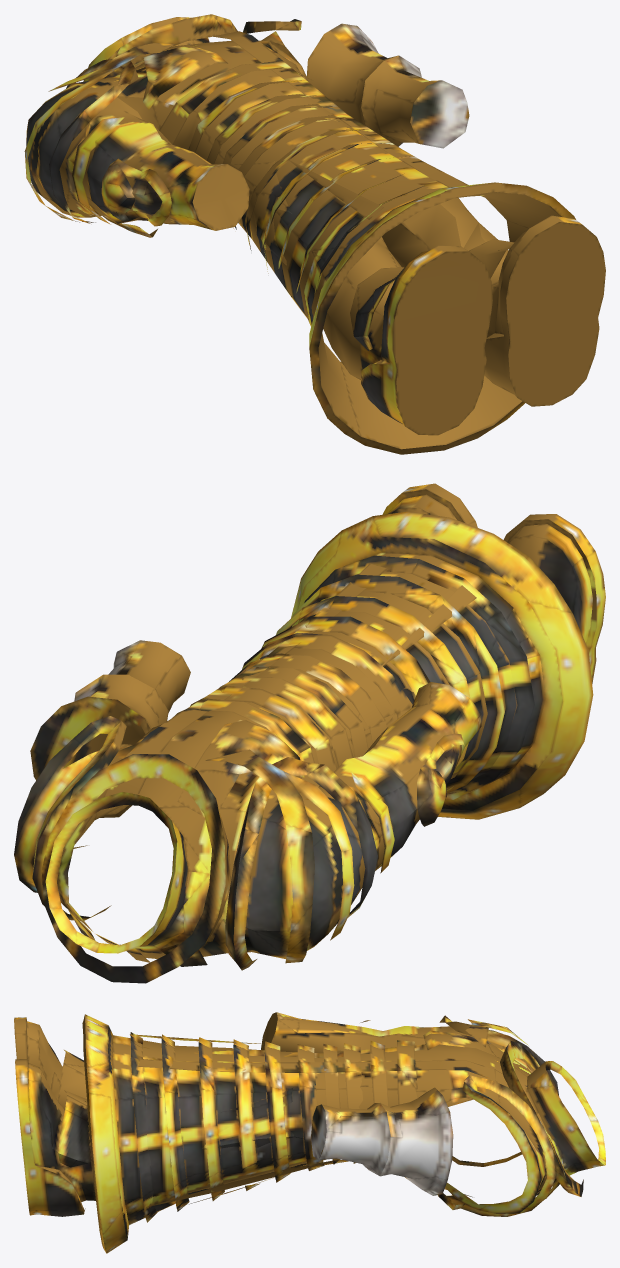
File: item_mm9_10114.glb
The picture shows the model from 3 angles, top to bottom: view 1: azimuth 30°, elevation 25°; view 2: azimuth 150°, elevation 25°; view 3: azimuth 270°, elevation 25°; orthographic projection. The views are drawn at different scales.
Parts seen in each view (by area): view 1: d10114; view 2: d10114; view 3: d10114.
Boxes of the visible parts, x1=… form: d10114: x1=24, y1=14, x2=605, y2=454; d10114: x1=14, y1=483, x2=605, y2=983; d10114: x1=14, y1=1012, x2=605, y2=1253.
Size of the model in its own units: 0.5277 by 0.409 by 1.03.
1 material, 1 textured.
